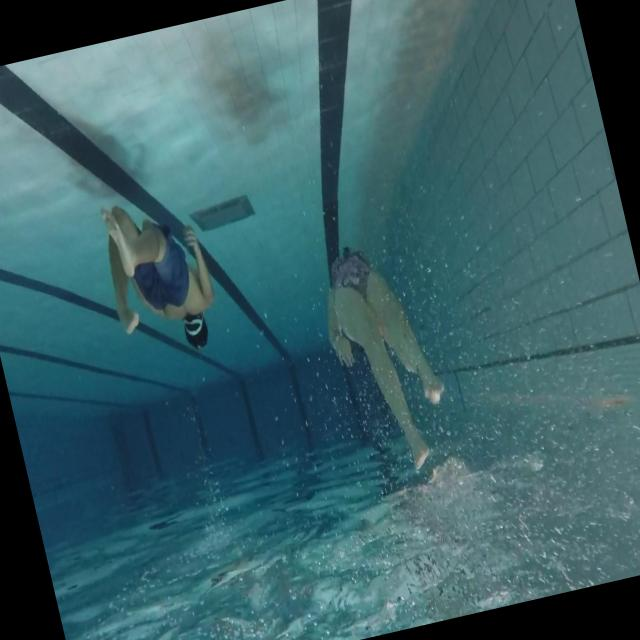human: (309, 232, 462, 484), (94, 186, 226, 366)
